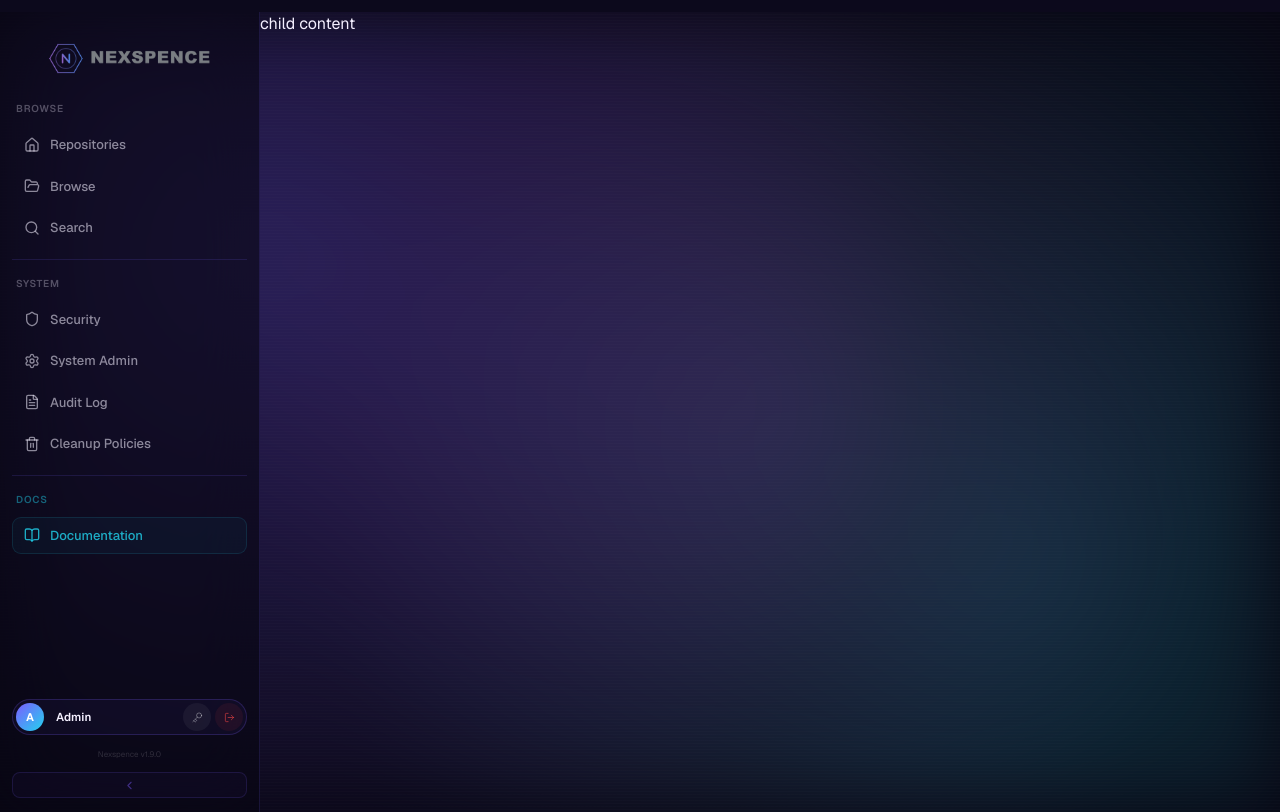
it: Layout › toggles sidebar collapse and persists to localStorage
This screenshot has width=1280, height=812.
Click the button titled "Collapse sidebar" at (130, 785), box top-left (12, 772), bottom-right (247, 798)
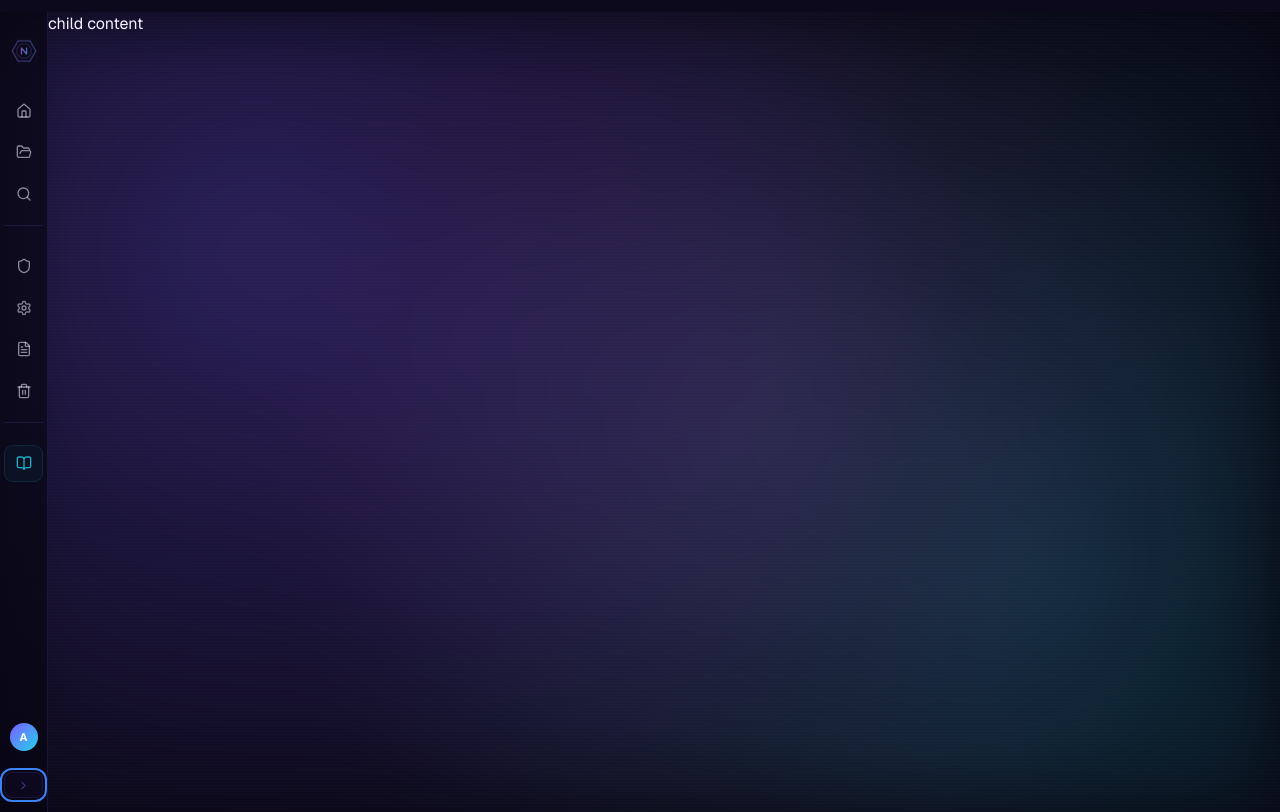
Now the button titled "Expand sidebar" is shown, box top-left (4, 772), bottom-right (43, 798)
